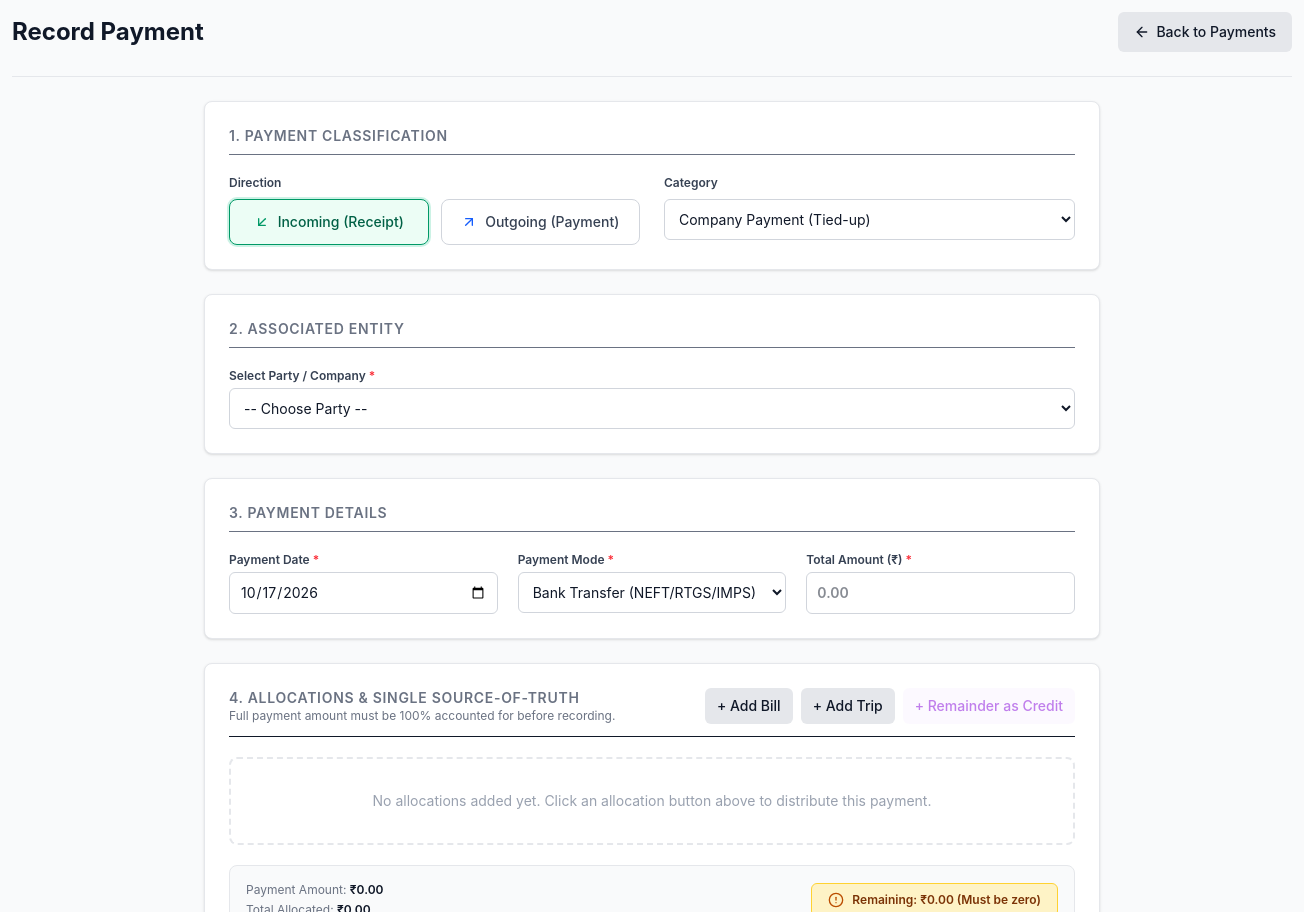
it: CreatePayment Page › renders payment form and disables submit when unallocated
expect the heading "Record Payment" is shown: met, box x1=12 y1=16 x2=204 y2=48
expect the heading "1. Payment Classification" is shown: met, box x1=229 y1=126 x2=1075 y2=155
# Enter Amount
Type "50000" into the number field with placeholder "0.00" at [941, 593], box x1=806 y1=572 x2=1075 y2=614
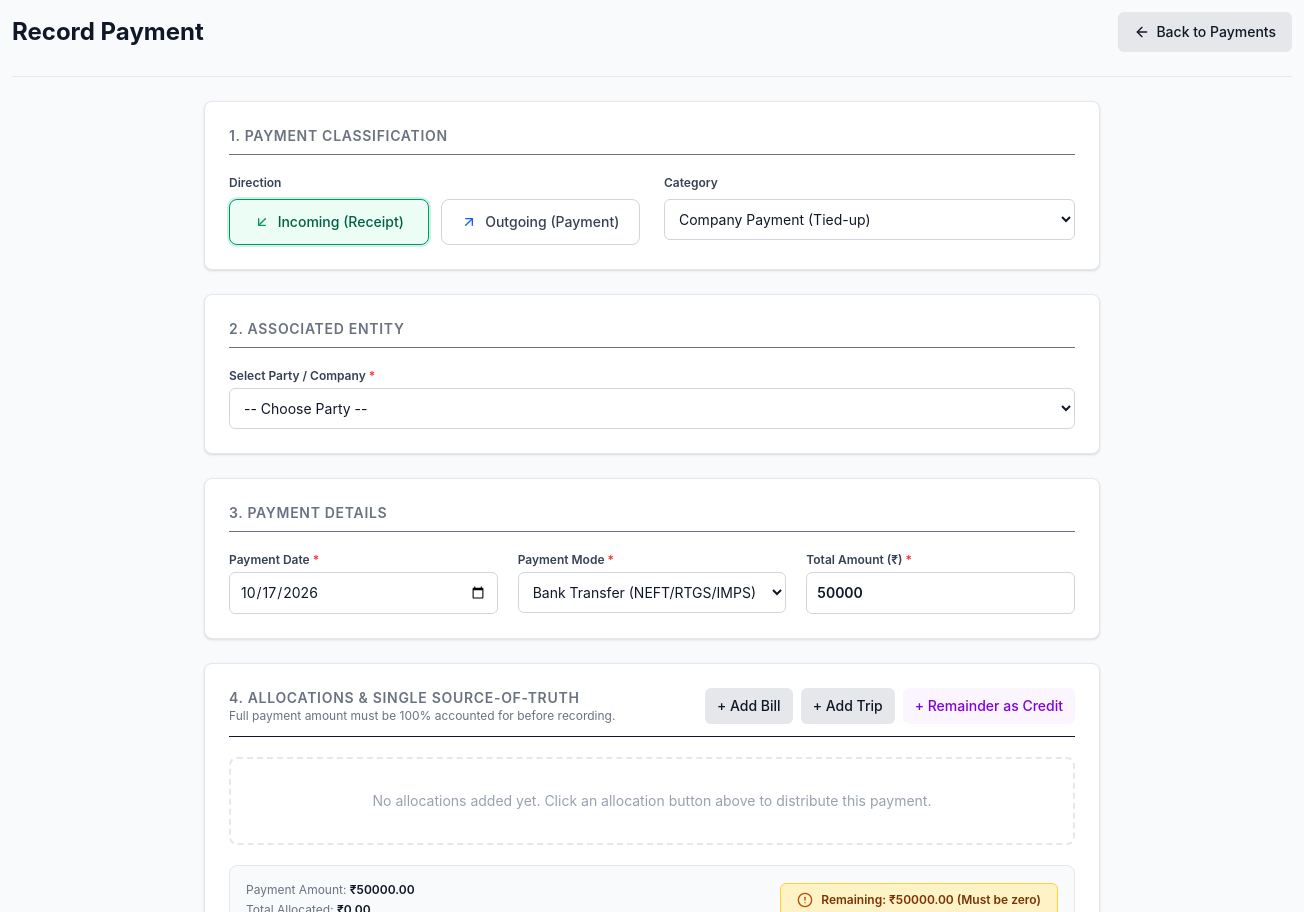
expect the text "Remaining: ₹50000.00 (Must be zero)" is shown: met, box x1=821 y1=892 x2=1041 y2=908
